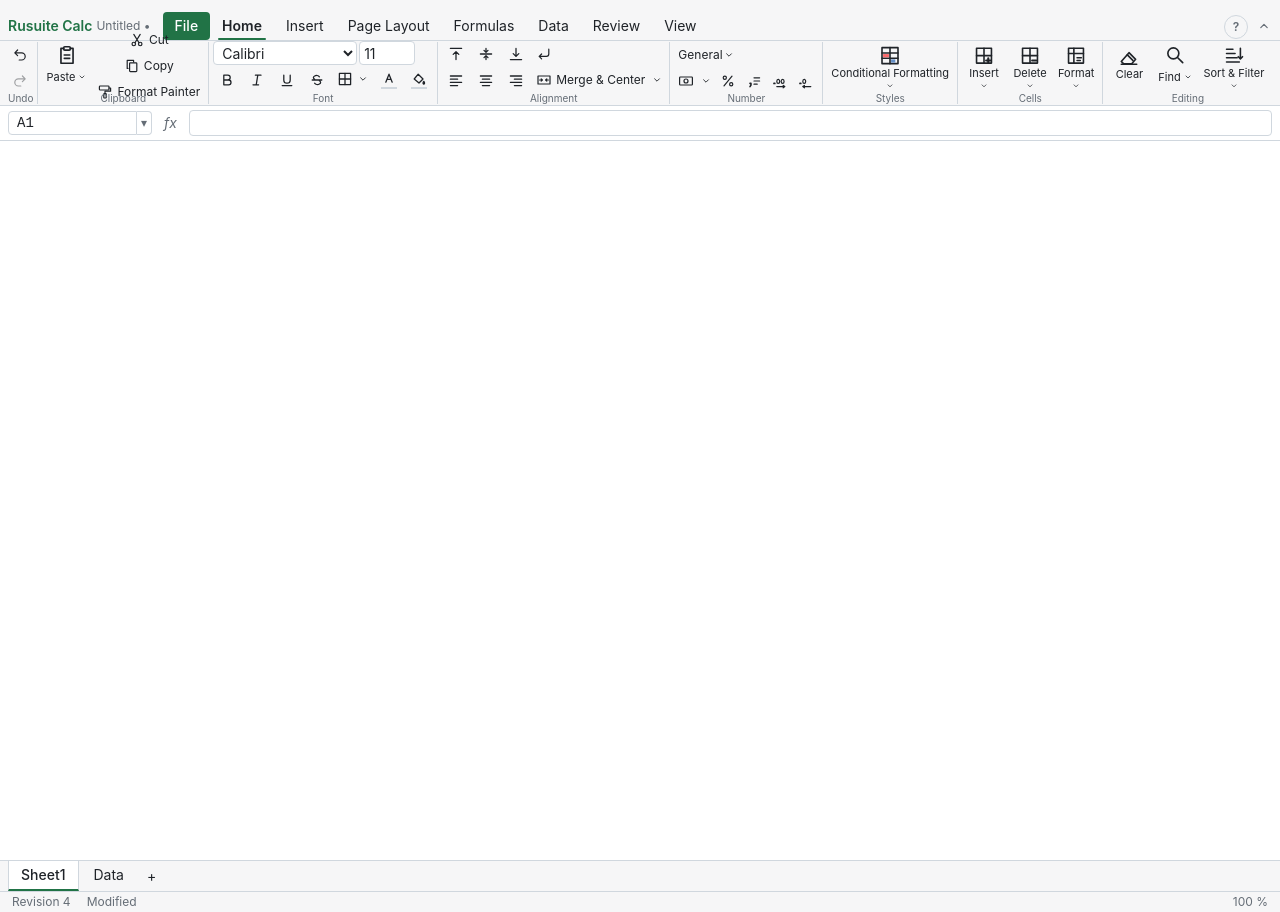
it: Comments pane across sheets › the reply box suggests people after @ and inserts the name
The width and height of the screenshot is (1280, 912).
Expected: the tab "Sheet1" is shown, [8, 861, 78, 891]
Click the tab "Review". click: (616, 26)
box: [581, 12, 652, 40]
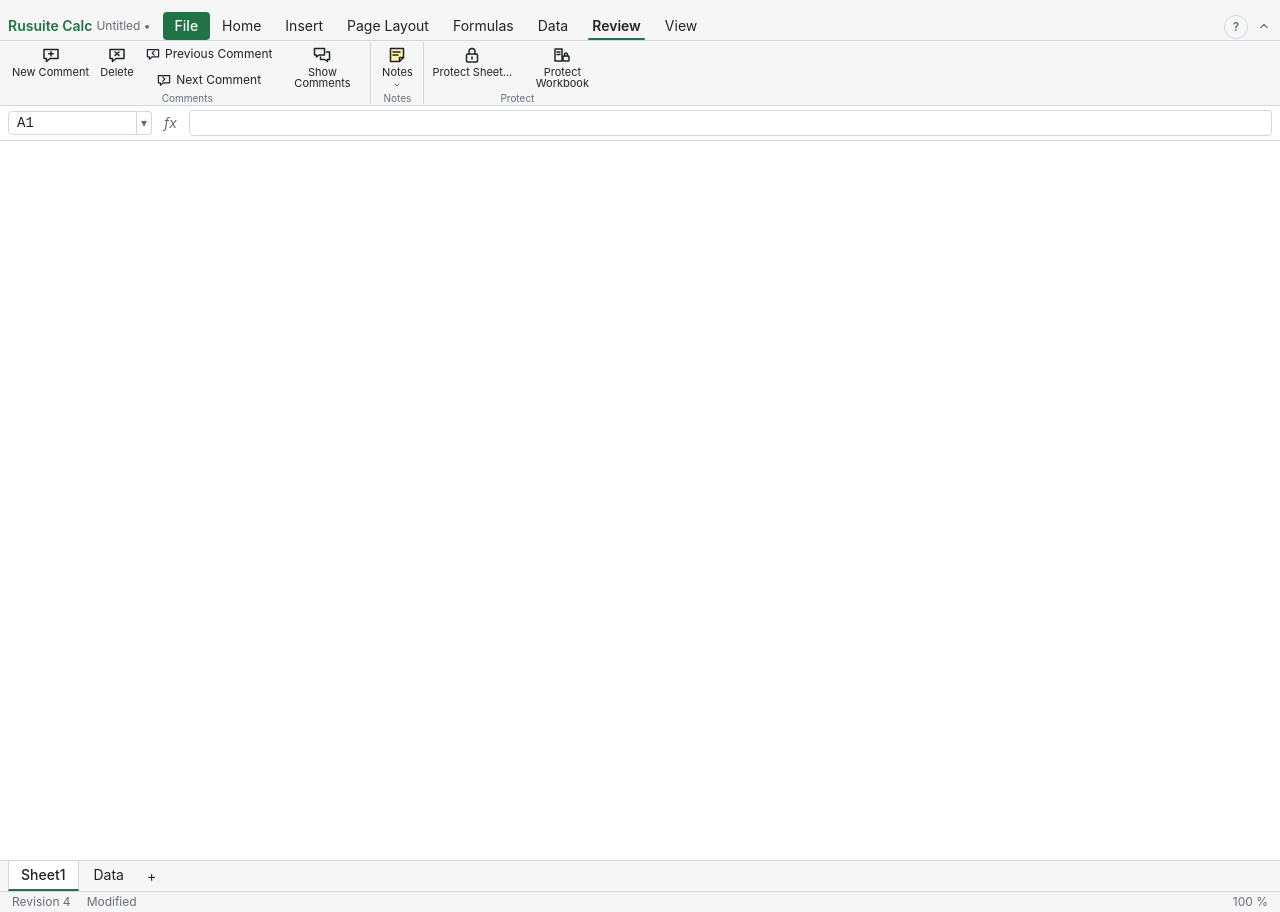
Click the button "Show Comments". click: (322, 67)
box: [278, 43, 366, 91]
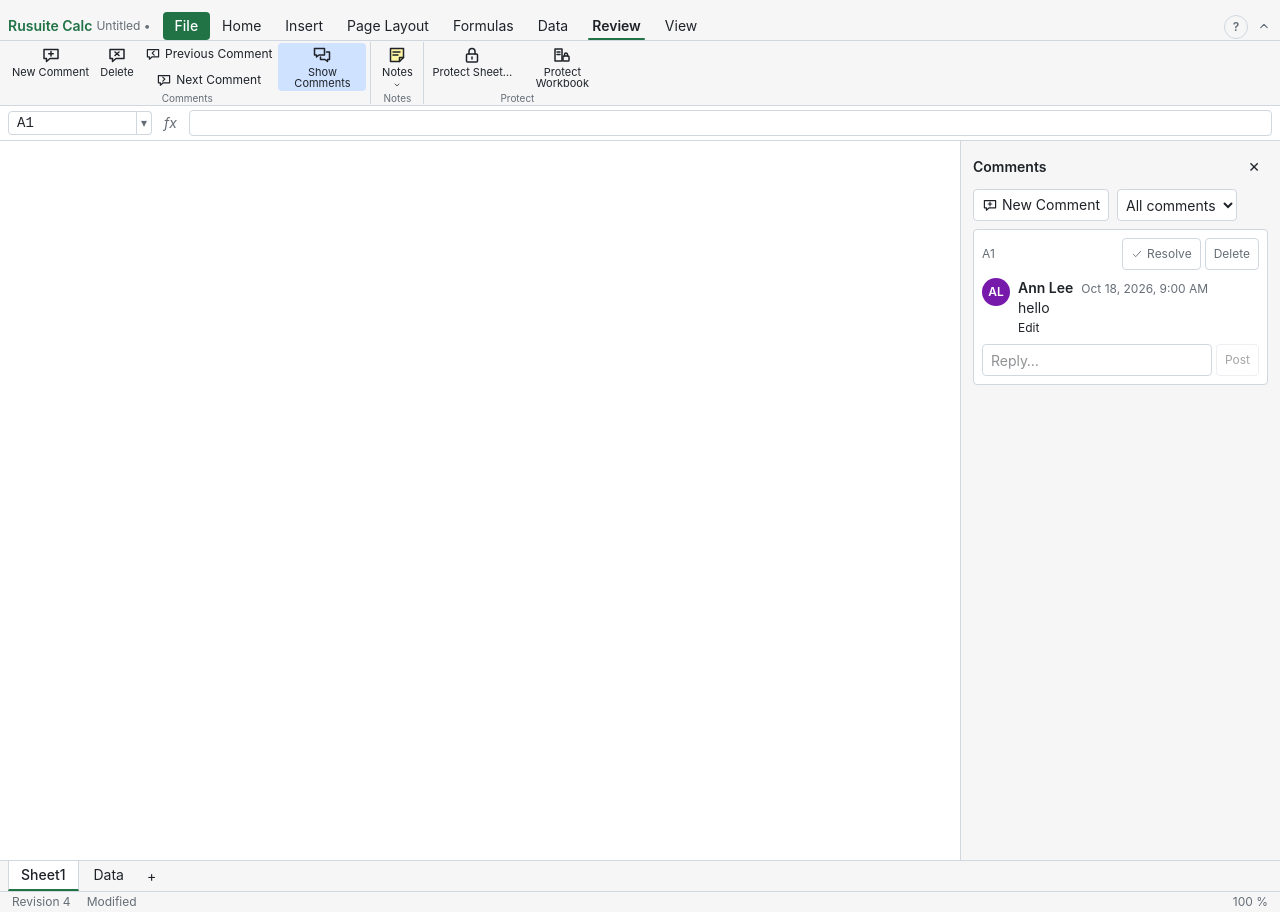
Type "thanks @bo" into the field labelled "Reply". click: (1097, 360)
box: [982, 344, 1212, 376]
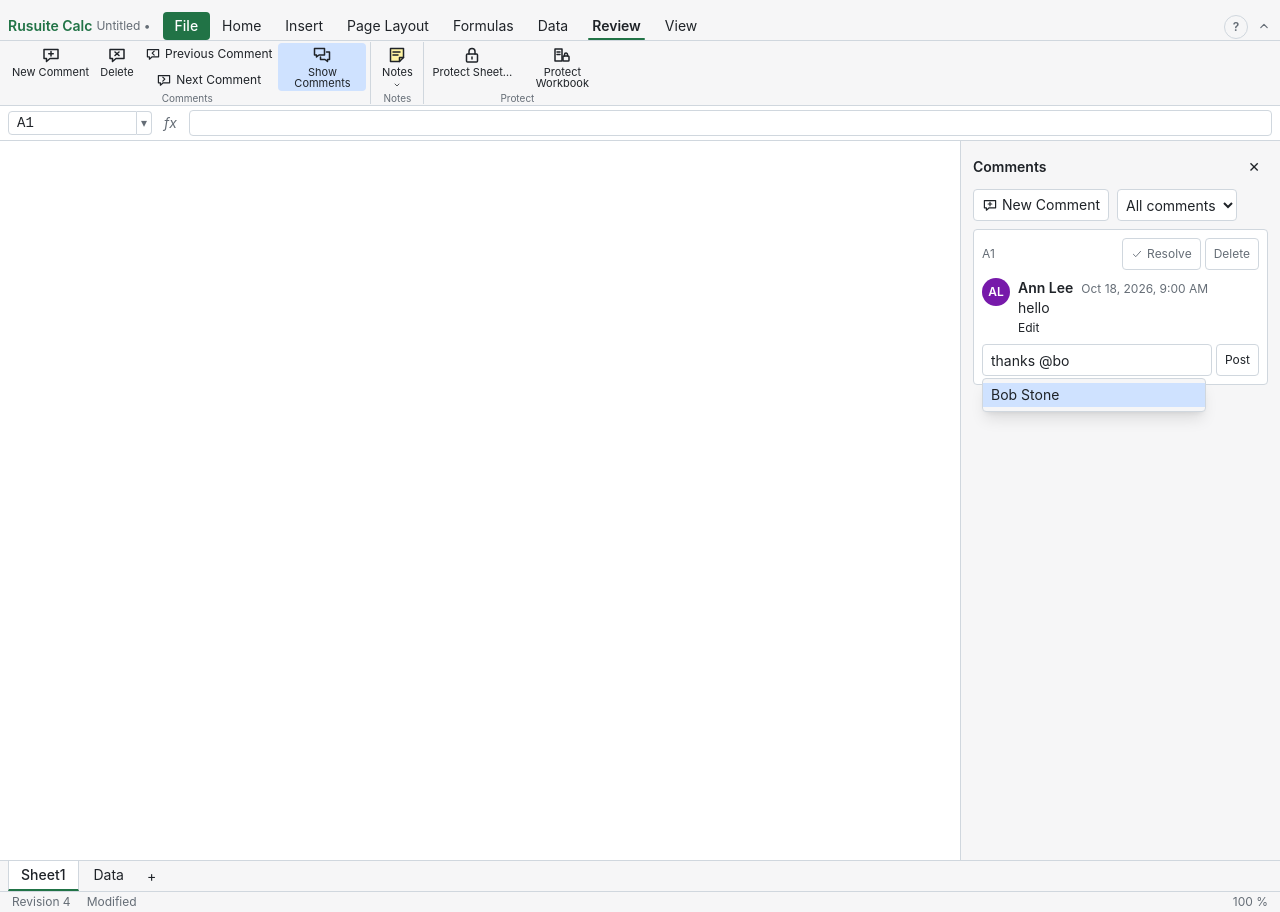
Expected: the options read "Bob Stone", in this order, [983, 383, 1205, 407]
Press Enter in the field named "Reply", box [982, 344, 1212, 376]
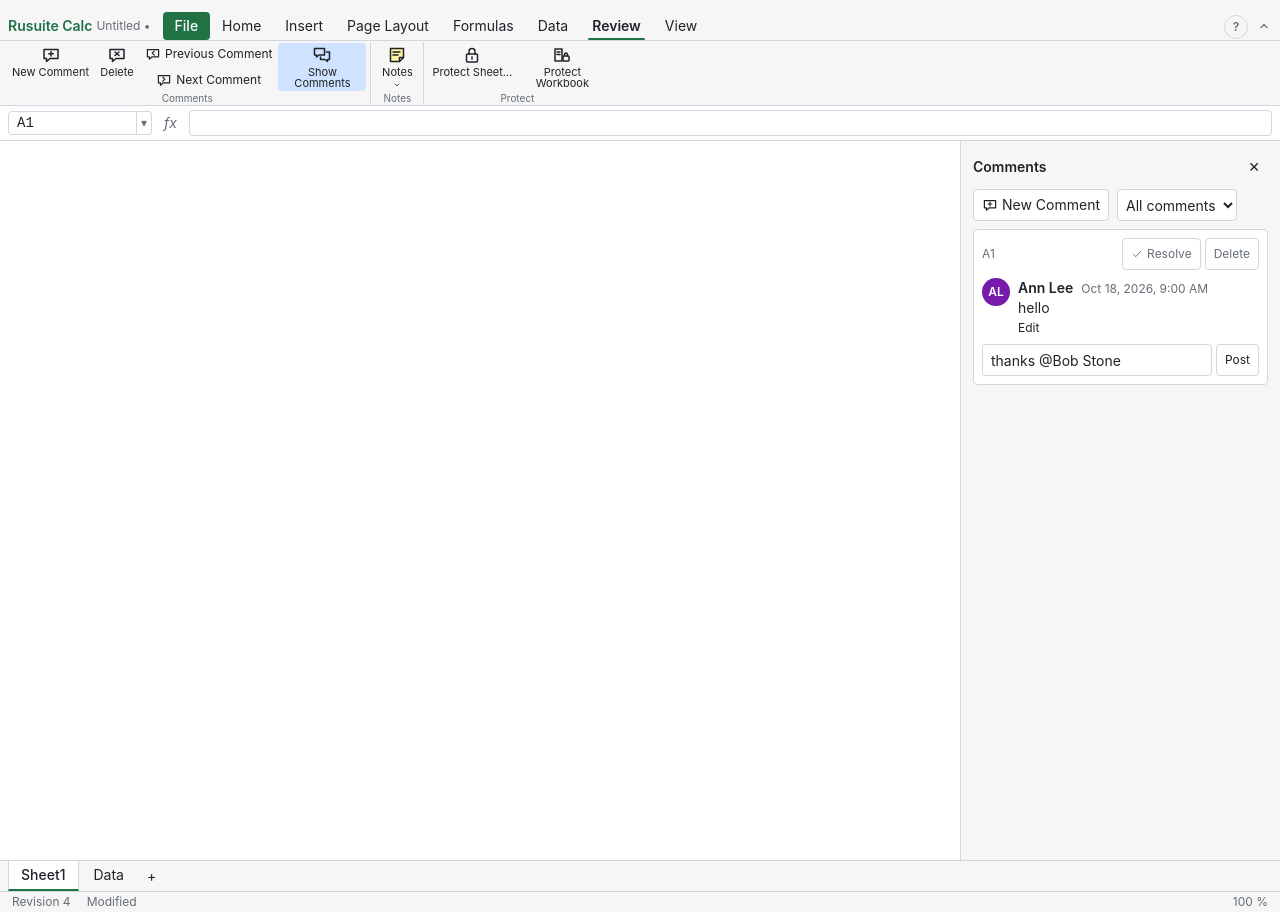
Expected: the field named "Reply" holds "thanks @Bob Stone ", [982, 344, 1212, 376]
